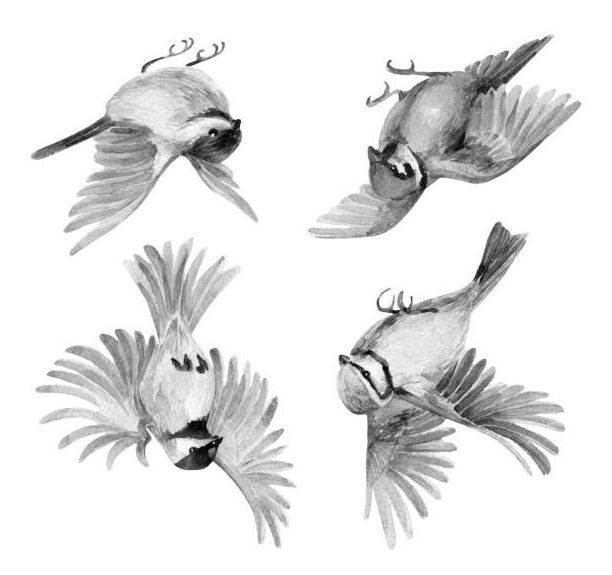Bird: (25, 238, 301, 553), (334, 217, 567, 553), (304, 27, 584, 243), (29, 31, 265, 262)
